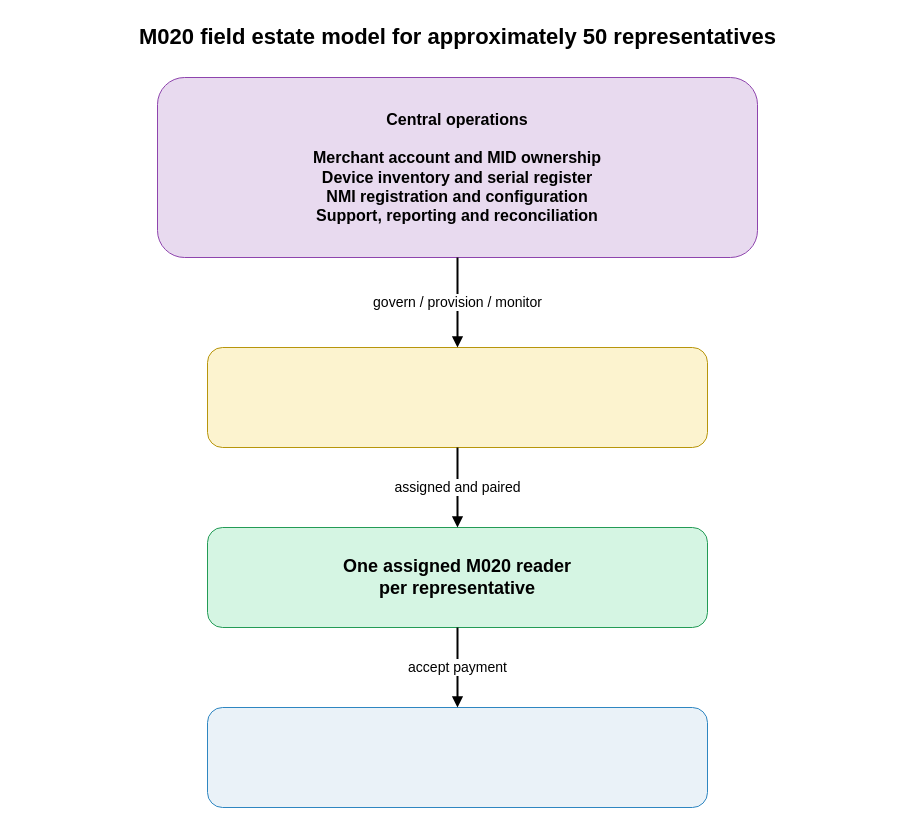
Some shapes in this 914 by 825 pixel diagram are drawn without their labels. Here are the shapes that lost their labels. From the top down, the centre of each, then its label:
At pixel 457 397: "Representative host device + 121 app".
At pixel 457 757: "Customer-present card transaction".
